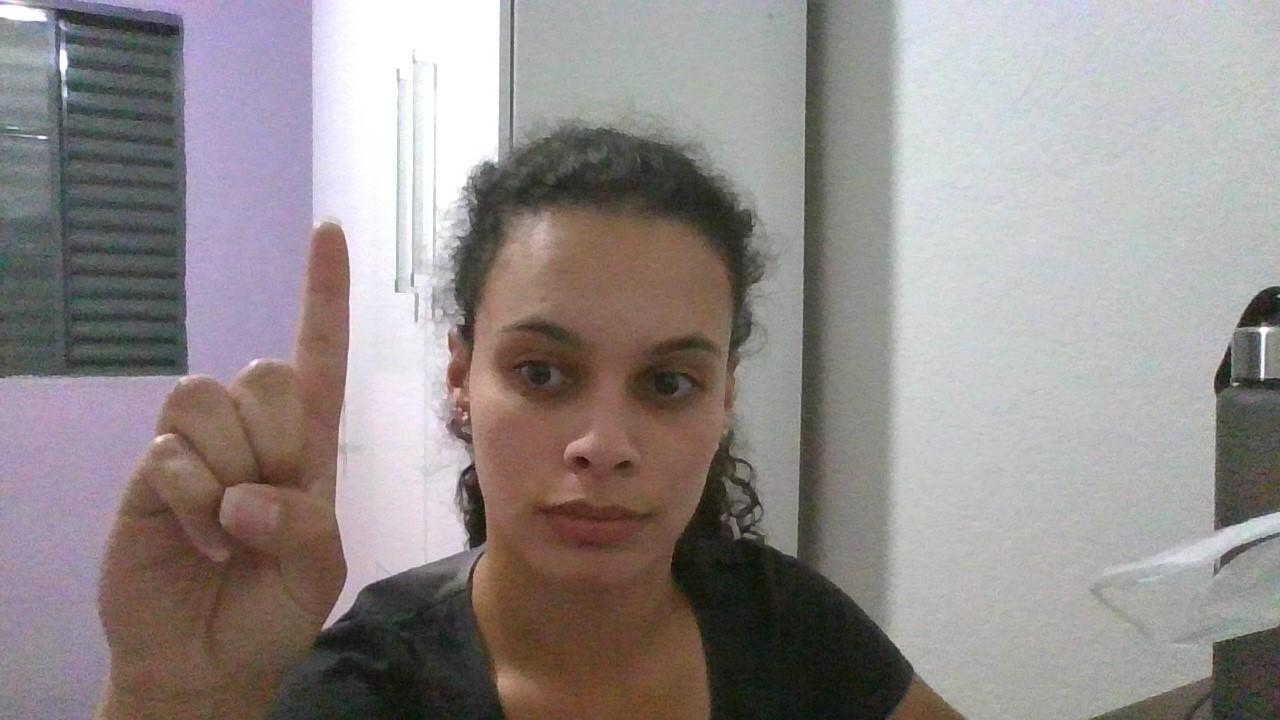D2: (90, 202, 368, 684)
